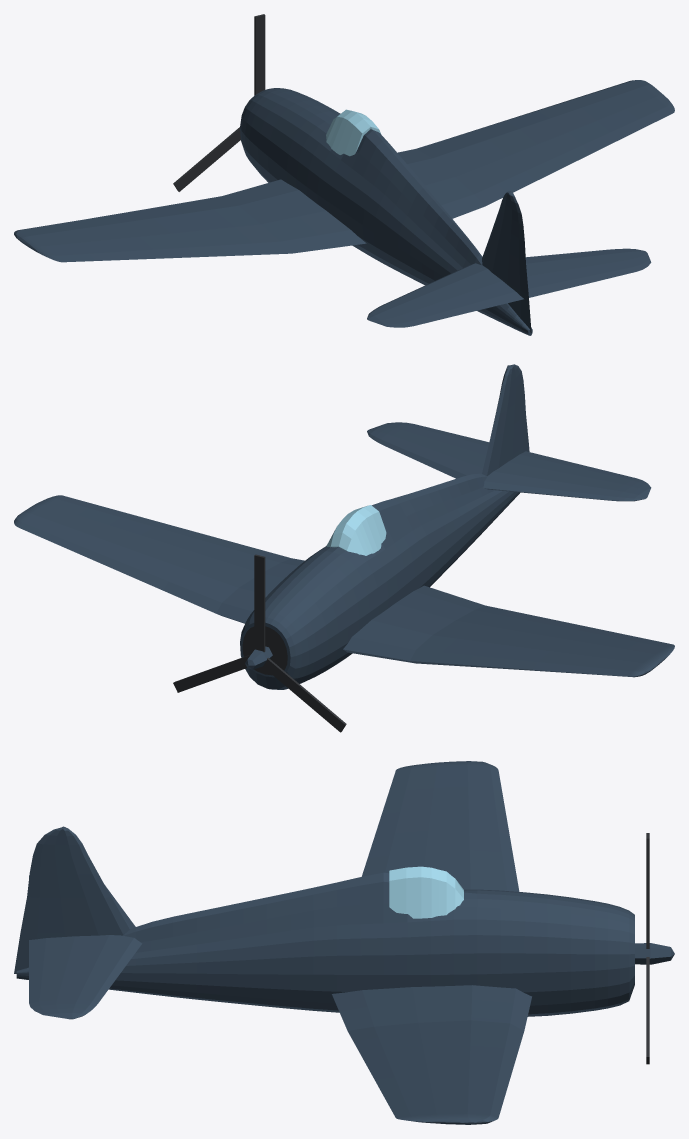
3 renders of one model, top to bottom at view 1: azimuth 30°, elevation 25°; view 2: azimuth 150°, elevation 25°; view 3: azimuth 270°, elevation 25°, orthographic. The views are drawn at different scales.
Parts seen in each view (by area): view 1: F6F_Wing, F6F_Fuselage, F6F_Tailplane, F6F_Fin, F6F_Prop, F6F_Canopy; view 2: F6F_Wing, F6F_Fuselage, F6F_Tailplane, F6F_Prop, F6F_Fin, F6F_Canopy, F6F_CowlFace; view 3: F6F_Fuselage, F6F_Wing, F6F_Fin, F6F_Tailplane, F6F_Canopy, F6F_Prop, F6F_Spinner.
Part boxes in pixels (x1=…): F6F_Wing: x1=14, y1=80, x2=674, y2=262; F6F_Fuselage: x1=240, y1=88, x2=532, y2=335; F6F_Tailplane: x1=367, y1=248, x2=651, y2=327; F6F_Fin: x1=482, y1=191, x2=531, y2=332; F6F_Prop: x1=173, y1=14, x2=265, y2=191; F6F_Canopy: x1=326, y1=109, x2=381, y2=156; F6F_Wing: x1=14, y1=495, x2=674, y2=677; F6F_Fuselage: x1=240, y1=473, x2=520, y2=689; F6F_Tailplane: x1=367, y1=422, x2=651, y2=501; F6F_Prop: x1=173, y1=554, x2=346, y2=732; F6F_Fin: x1=482, y1=364, x2=529, y2=475; F6F_Canopy: x1=326, y1=505, x2=386, y2=555; F6F_CowlFace: x1=242, y1=626, x2=287, y2=675; F6F_Fuselage: x1=16, y1=872, x2=634, y2=1016; F6F_Wing: x1=332, y1=761, x2=531, y2=1124; F6F_Fin: x1=14, y1=826, x2=129, y2=973; F6F_Tailplane: x1=29, y1=876, x2=142, y2=1019; F6F_Canopy: x1=389, y1=866, x2=463, y2=918; F6F_Prop: x1=646, y1=833, x2=649, y2=1064; F6F_Spinner: x1=635, y1=943, x2=674, y2=964.
Bounding box in the file's own units: 13.06 × 3.21 × 10.12.
